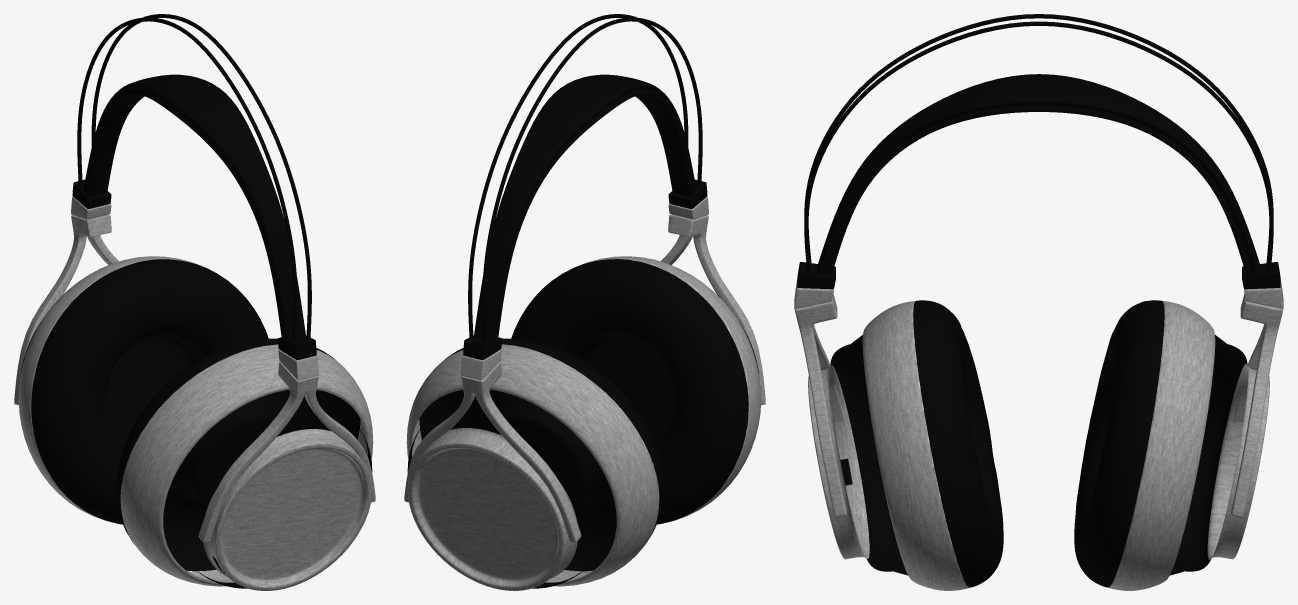
File: headphone.glb
3 renders of one model, left to right at view 1: azimuth 30°, elevation 25°; view 2: azimuth 150°, elevation 25°; view 3: azimuth 270°, elevation 25°, orthographic. The views are drawn at different scales.
Visible parts, largest first — view 1: Circle.002_2, Circle_0, Circle.006_5, Cube.001_9, Circle.008_7, Circle.001_1, Circle.003_3, Vert_10, Vert.001_11, Cube_8; view 2: Circle.008_7, Circle_0, Circle.003_3, Cube.001_9, Circle.002_2, Circle.001_1, Circle.006_5, Vert_10, Vert.001_11, Cube_8; view 3: Cube.001_9, Circle.002_2, Circle.008_7, Circle.003_3, Circle.006_5, Circle_0, Circle.001_1, Circle.007_6, Circle.004_4, Vert.001_11, Vert_10, Cube_8.
Boxes of the visible parts, left/top/right/bottom form: Circle.002_2: left=31, top=259, right=268, bottom=524; Circle_0: left=203, top=429, right=372, bottom=590; Circle.006_5: left=120, top=344, right=373, bottom=586; Cube.001_9: left=72, top=74, right=316, bottom=360; Circle.008_7: left=116, top=338, right=360, bottom=571; Circle.001_1: left=14, top=214, right=375, bottom=542; Circle.003_3: left=18, top=256, right=205, bottom=522; Vert_10: left=77, top=17, right=297, bottom=342; Vert.001_11: left=91, top=14, right=311, bottom=339; Cube_8: left=71, top=197, right=318, bottom=380; Circle.008_7: left=511, top=259, right=748, bottom=524; Circle_0: left=407, top=428, right=577, bottom=590; Circle.003_3: left=406, top=344, right=659, bottom=586; Cube.001_9: left=463, top=74, right=707, bottom=360; Circle.002_2: left=419, top=338, right=663, bottom=571; Circle.001_1: left=404, top=214, right=765, bottom=542; Circle.006_5: left=574, top=256, right=761, bottom=523; Vert_10: left=482, top=17, right=702, bottom=342; Vert.001_11: left=468, top=14, right=688, bottom=339; Cube_8: left=461, top=197, right=708, bottom=380; Cube.001_9: left=797, top=74, right=1280, bottom=289; Circle.002_2: left=1074, top=300, right=1164, bottom=587; Circle.008_7: left=913, top=300, right=1003, bottom=587; Circle.003_3: left=1108, top=301, right=1215, bottom=590; Circle.006_5: left=862, top=301, right=969, bottom=590; Circle_0: left=808, top=364, right=1269, bottom=559; Circle.001_1: left=794, top=294, right=1283, bottom=517; Circle.007_6: left=830, top=335, right=907, bottom=575; Circle.004_4: left=1170, top=335, right=1247, bottom=575; Vert.001_11: left=804, top=21, right=1273, bottom=272; Vert_10: left=804, top=14, right=1273, bottom=264; Cube_8: left=794, top=279, right=1283, bottom=308.
Size of the model in its own units: 0.137 by 0.2831 by 0.2248.
Materials: 3 (1 with a texture image).
